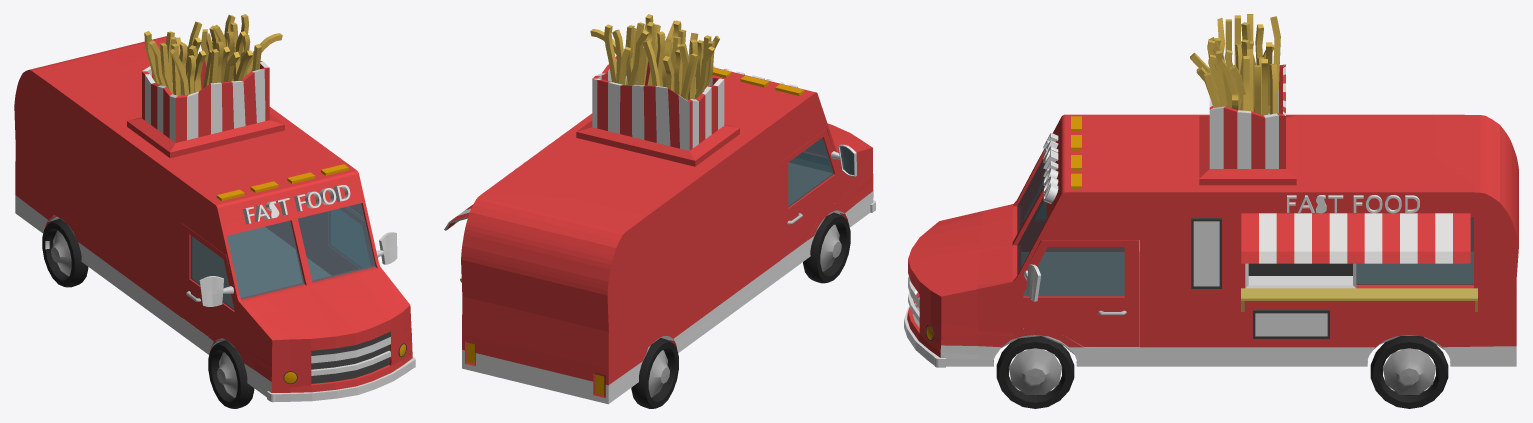
File: Fast Food Truck.fbx
3 renders of one model, left to right at view 1: azimuth 30°, elevation 25°; view 2: azimuth 150°, elevation 25°; view 3: azimuth 270°, elevation 25°, orthographic. The views are drawn at different scales.
Parts seen in each view (by area): view 1: Fast_Food1; view 2: Fast_Food1; view 3: Fast_Food1.
Part boxes in pixels (x1,y1,x2,y2): Fast_Food1: (14, 14, 415, 408); Fast_Food1: (444, 14, 875, 408); Fast_Food1: (904, 14, 1518, 408).
Bounding box in the file's own units: 2.92 × 3.93 × 6.67.
